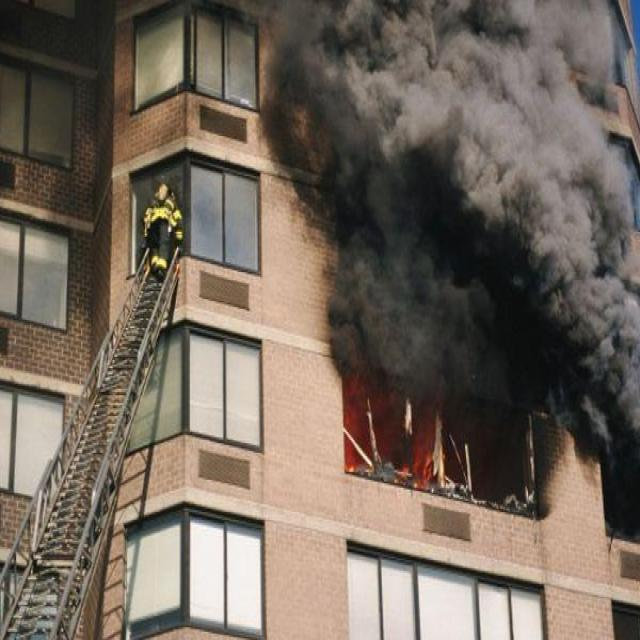Smoke: (266, 0, 640, 453)
